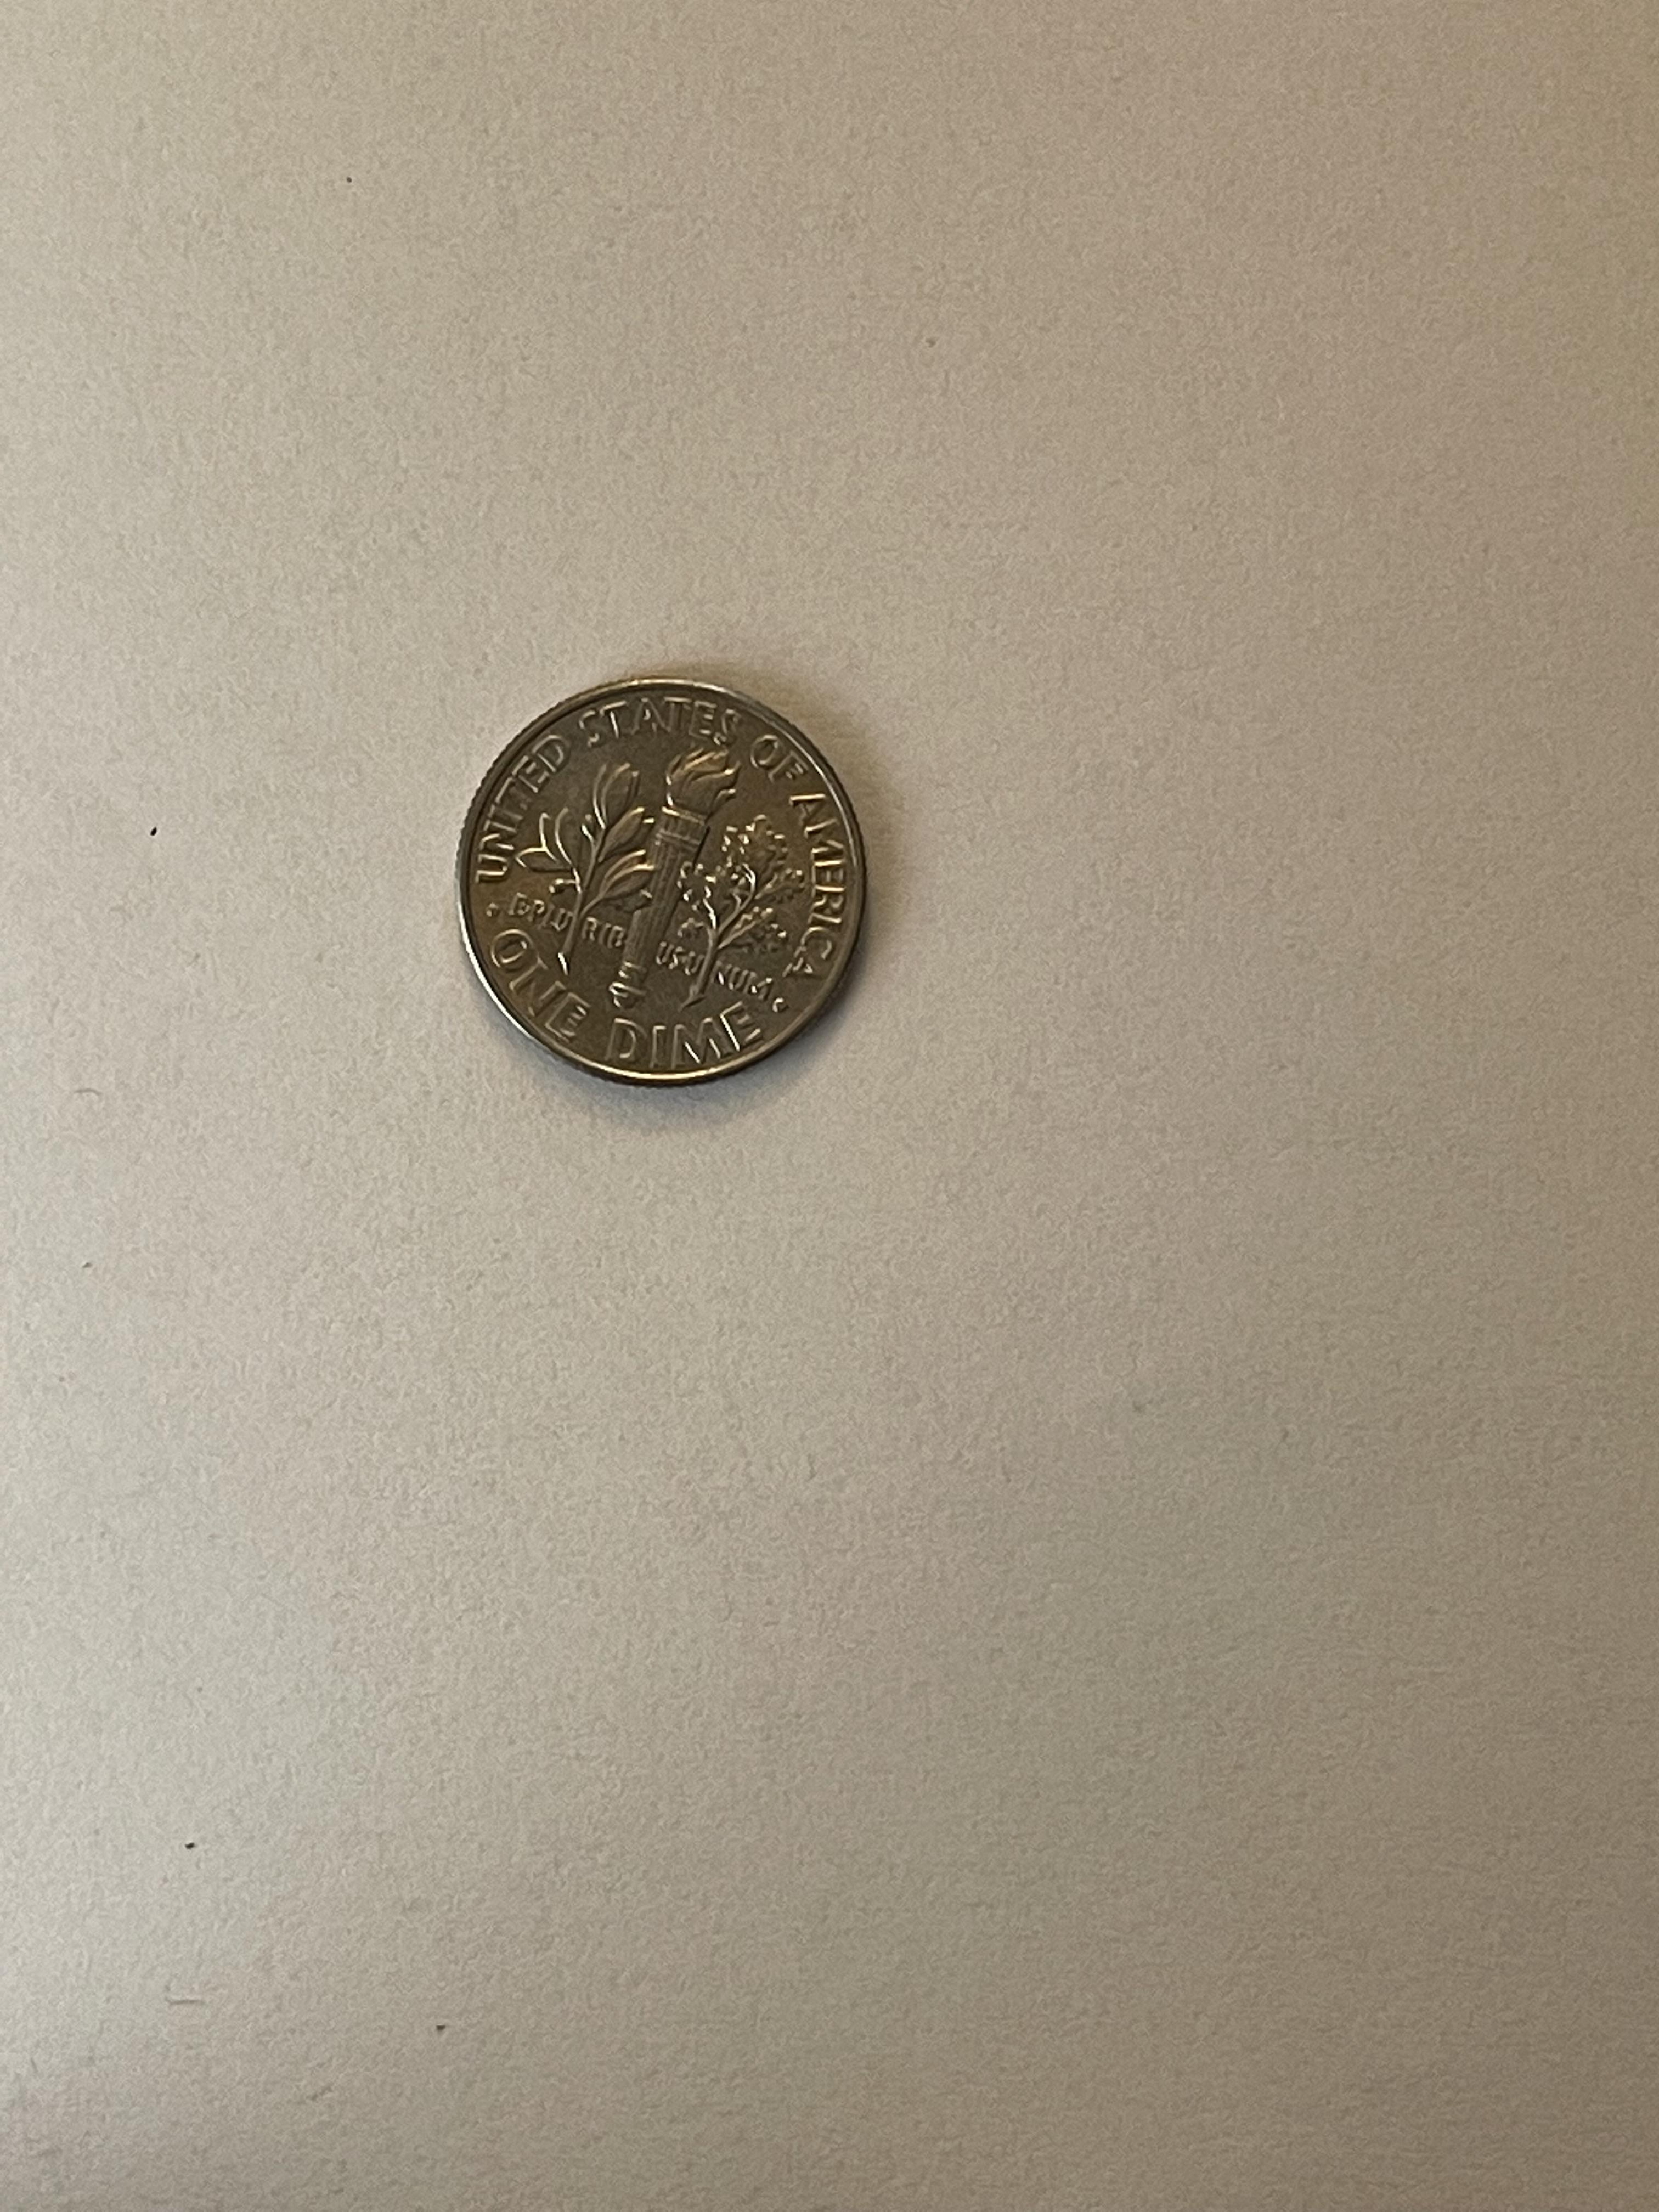Dime: (453, 676, 866, 1087)
